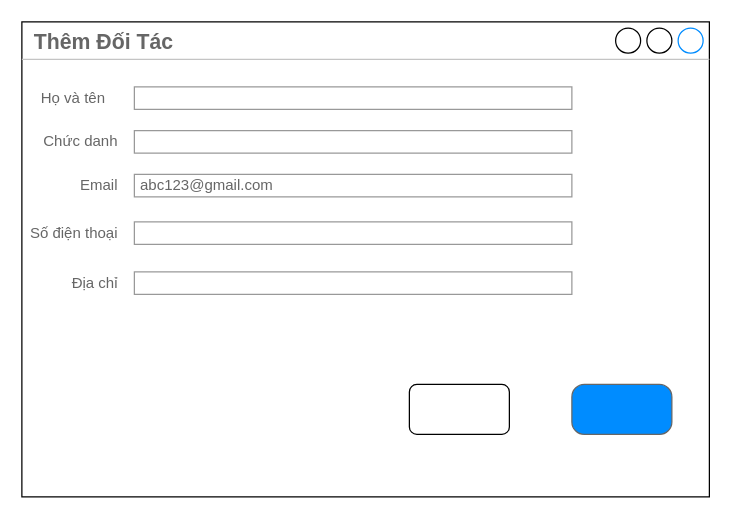
The diagram is 731 pixels wide and 519 high, and some of its shapes have lost their labels. Here are the shapes that lost their labels. From the top down, the box of each, then its label:
(408, 383, 509, 434): Cập nhật
(571, 383, 672, 434): Thêm
